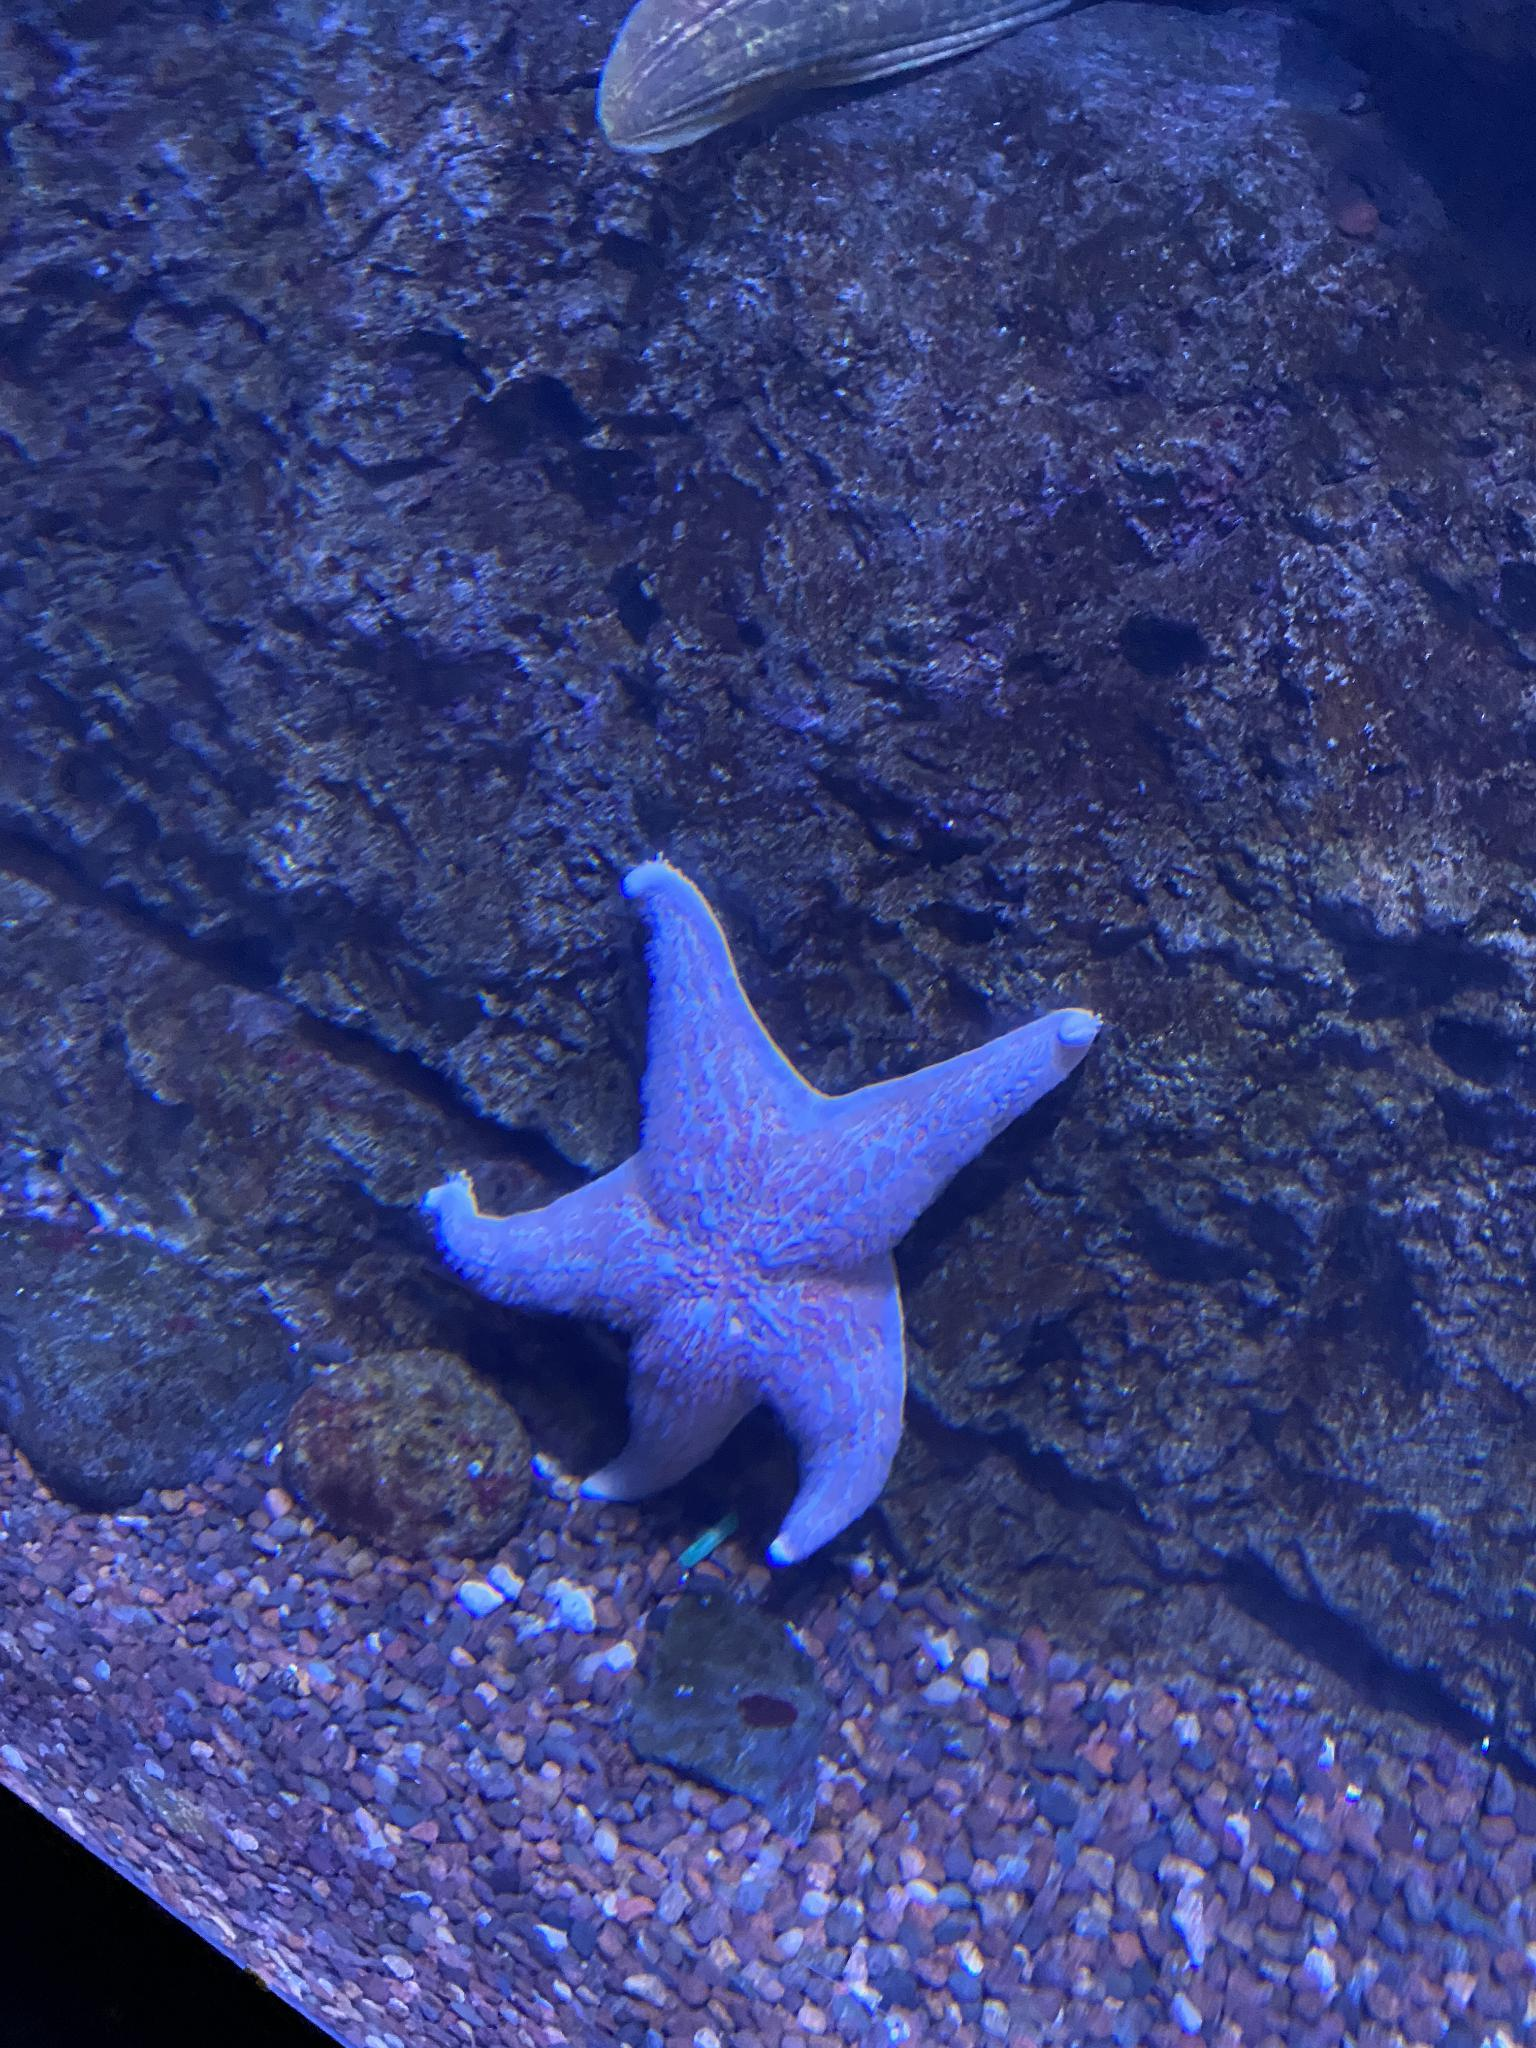starfish: (423, 863, 1096, 1563)
